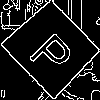P: (26, 24, 82, 80)
